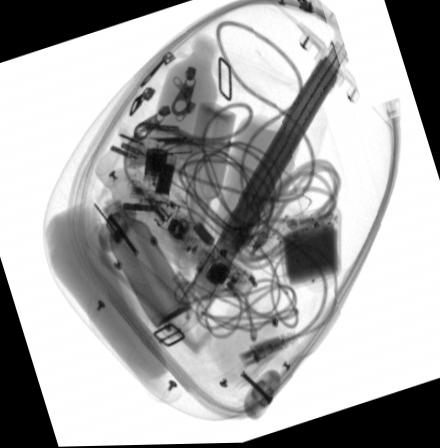Powerbank: (276, 206, 340, 290)
